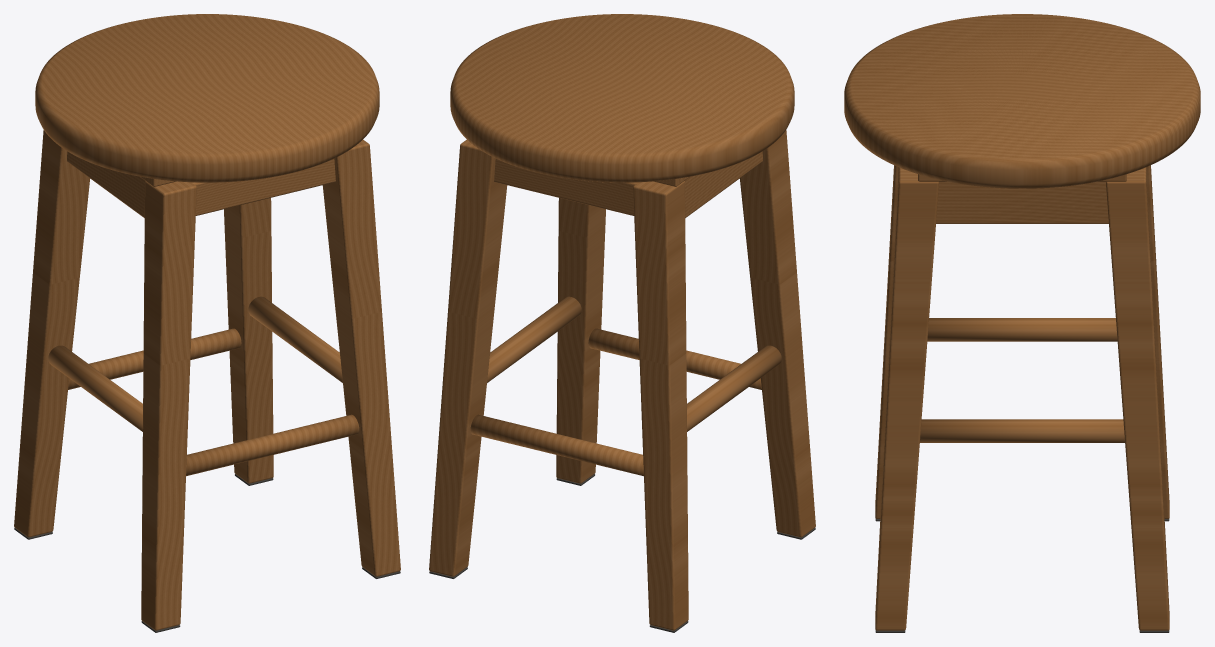
Rendered from round_wooden_stool.glb.
3 views of the same model, side by side, from view 1: azimuth 30°, elevation 25°; view 2: azimuth 150°, elevation 25°; view 3: azimuth 270°, elevation 25° (orthographic). The views are drawn at different scales.
Parts seen in each view (by area): view 1: Solid round seat, Square splayed leg -1 -1, Square splayed leg 1 -1, Square splayed leg -1 1, Square splayed leg 1 1, Cross round stretcher, Cross upper apron, Side frame round stretcher, Side frame round stretcher.001, Cross round stretcher.001, Side frame upper rail; view 2: Solid round seat, Square splayed leg -1 1, Square splayed leg 1 1, Square splayed leg -1 -1, Square splayed leg 1 -1, Cross round stretcher.001, Cross upper apron.001, Side frame round stretcher, Side frame round stretcher.001, Cross round stretcher, Side frame upper rail; view 3: Solid round seat, Square splayed leg 1 -1, Square splayed leg 1 1, Side frame upper rail.001, Side frame round stretcher.001, Side frame round stretcher, Square splayed leg -1 -1, Square splayed leg -1 1.
Boxes of the visible parts, x1,y1,x2,y2 form: Solid round seat: [35, 14, 379, 182]; Square splayed leg -1 -1: [141, 181, 196, 630]; Square splayed leg 1 -1: [322, 139, 400, 576]; Square splayed leg -1 1: [14, 130, 90, 537]; Square splayed leg 1 1: [224, 198, 273, 483]; Cross round stretcher: [186, 414, 359, 476]; Cross upper apron: [191, 159, 335, 215]; Side frame round stretcher: [48, 345, 142, 431]; Side frame round stretcher.001: [248, 296, 342, 382]; Cross round stretcher.001: [68, 328, 241, 389]; Side frame upper rail: [67, 151, 145, 217]; Solid round seat: [450, 14, 794, 182]; Square splayed leg -1 1: [633, 181, 688, 630]; Square splayed leg 1 1: [429, 139, 507, 576]; Square splayed leg -1 -1: [739, 130, 815, 537]; Square splayed leg 1 -1: [556, 198, 605, 483]; Cross round stretcher.001: [470, 414, 643, 476]; Cross upper apron.001: [494, 159, 645, 215]; Side frame round stretcher: [687, 345, 781, 431]; Side frame round stretcher.001: [487, 296, 581, 382]; Cross round stretcher: [588, 328, 761, 389]; Side frame upper rail: [684, 151, 762, 217]; Solid round seat: [844, 14, 1200, 188]; Square splayed leg 1 -1: [875, 167, 938, 630]; Square splayed leg 1 1: [1106, 167, 1169, 630]; Side frame upper rail.001: [936, 181, 1108, 223]; Side frame round stretcher.001: [920, 419, 1124, 442]; Side frame round stretcher: [927, 318, 1117, 341]; Square splayed leg -1 -1: [875, 165, 898, 518]; Square splayed leg -1 1: [1146, 165, 1169, 518].
Bounding box in the file's own units: 0.3 × 0.45 × 0.3.
3 materials, 1 textured.
